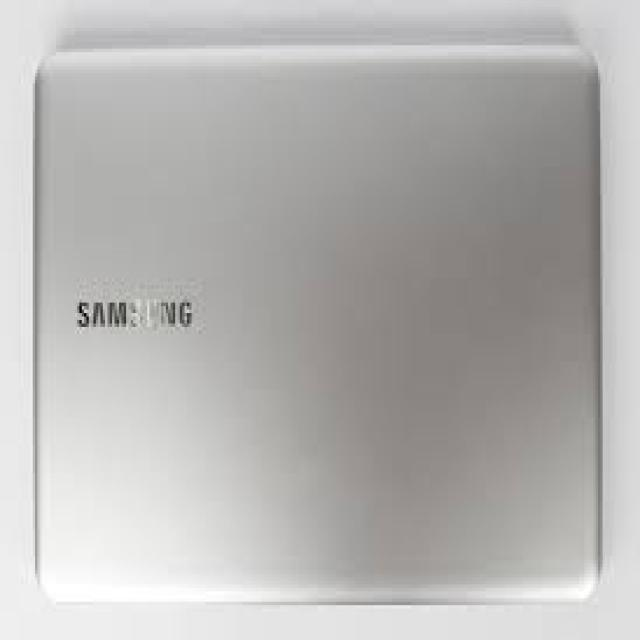laptop: (32, 38, 603, 604)
